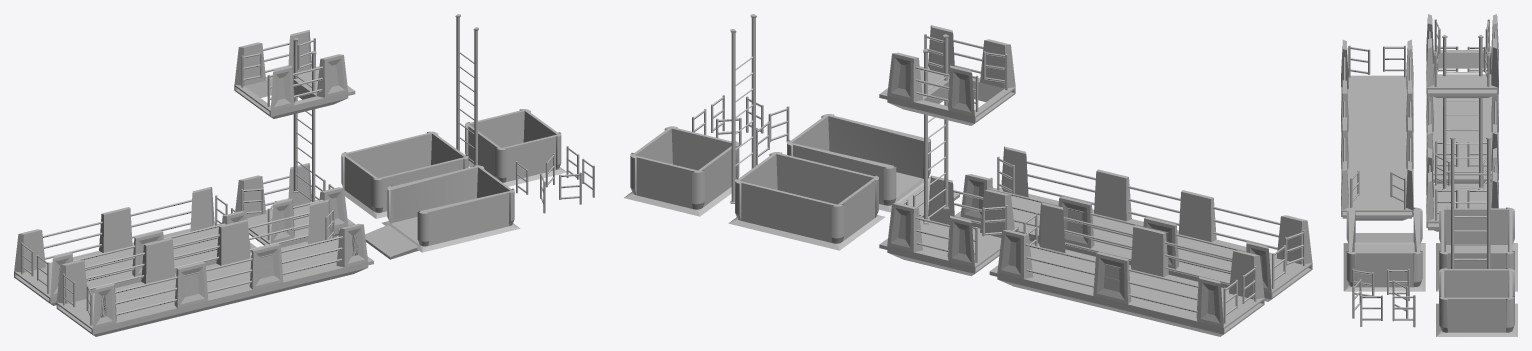
The model's file is KF_SM_ScafoldingKit.fbx.
The picture shows the model from 3 angles, left to right: view 1: azimuth 30°, elevation 25°; view 2: azimuth 150°, elevation 25°; view 3: azimuth 270°, elevation 25°; orthographic projection. The views are drawn at different scales.
Visible parts, largest first — view 1: KF_SM_Scaffolding3, KF_SM_Scaffolding2, KF_SM_RubbleBox2, KF_SM_ScaffoldingHatch, KF_SM_RubbleBox1, KF_SM_RubbleBox3, KF_SM_Scaffolding1, KF_SM_Ladder, KF_SM_BarnDoor2, KF_SM_BarnDoor3; view 2: KF_SM_Scaffolding2, KF_SM_Scaffolding3, KF_SM_RubbleBox1, KF_SM_ScaffoldingHatch, KF_SM_Scaffolding1, KF_SM_RubbleBox2, KF_SM_RubbleBox3, KF_SM_Ladder, KF_SM_BarnDoor1; view 3: KF_SM_Scaffolding3, KF_SM_ScaffoldingHatch, KF_SM_RubbleBox3, KF_SM_Scaffolding2, KF_SM_RubbleBox2, KF_SM_RubbleBox1, KF_SM_Scaffolding1, KF_SM_Ladder, KF_SM_BarnDoor3, KF_SM_BarnDoor1, KF_SM_BarnDoor2.
Part boxes in pixels (<box>): KF_SM_Scaffolding3: <box>56,199,373,336</box>; KF_SM_Scaffolding2: <box>14,186,256,305</box>; KF_SM_RubbleBox2: <box>365,165,520,259</box>; KF_SM_ScaffoldingHatch: <box>234,30,355,201</box>; KF_SM_RubbleBox1: <box>341,131,468,218</box>; KF_SM_RubbleBox3: <box>465,109,566,186</box>; KF_SM_Scaffolding1: <box>235,163,355,247</box>; KF_SM_Ladder: <box>455,14,478,165</box>; KF_SM_BarnDoor2: <box>545,153,581,204</box>; KF_SM_BarnDoor3: <box>566,146,594,197</box>; KF_SM_Scaffolding2: <box>989,202,1264,336</box>; KF_SM_Scaffolding3: <box>955,146,1312,301</box>; KF_SM_RubbleBox1: <box>728,152,885,250</box>; KF_SM_ScaffoldingHatch: <box>879,25,1015,224</box>; KF_SM_Scaffolding1: <box>879,175,1014,276</box>; KF_SM_RubbleBox2: <box>787,114,960,217</box>; KF_SM_RubbleBox3: <box>624,126,739,216</box>; KF_SM_Ladder: <box>730,14,756,203</box>; KF_SM_BarnDoor1: <box>756,106,789,165</box>; KF_SM_Scaffolding3: <box>1341,39,1413,220</box>; KF_SM_ScaffoldingHatch: <box>1426,14,1498,189</box>; KF_SM_RubbleBox3: <box>1436,268,1517,336</box>; KF_SM_Scaffolding2: <box>1426,46,1498,183</box>; KF_SM_RubbleBox2: <box>1343,207,1425,291</box>; KF_SM_RubbleBox1: <box>1436,207,1517,291</box>; KF_SM_Scaffolding1: <box>1426,148,1498,231</box>; KF_SM_Ladder: <box>1450,136,1491,268</box>; KF_SM_BarnDoor3: <box>1360,294,1415,327</box>; KF_SM_BarnDoor1: <box>1352,268,1409,300</box>; KF_SM_BarnDoor2: <box>1352,279,1408,318</box>.
Size of the model in its own units: 2591 by 886 by 757.
